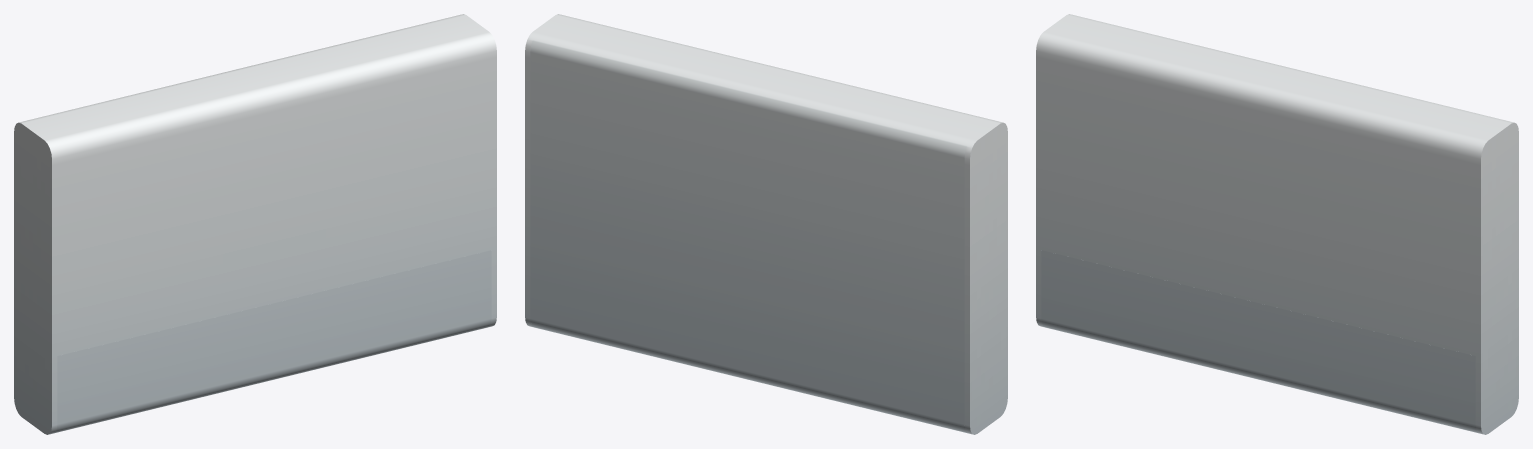
Rendered from CassetteCoverAnimation.fbx.
The picture shows the model from 3 angles, left to right: view 1: azimuth 30°, elevation 25°; view 2: azimuth 150°, elevation 25°; view 3: azimuth 330°, elevation 25°; orthographic projection.
Parts seen in each view (by area): view 1: CassetteCover_Lid, CassetteCover_Base; view 2: CassetteCover_Base, CassetteCover_Lid; view 3: CassetteCover_Lid, CassetteCover_Base.
Boxes of the visible parts, box(x1,y1,x2,y2) form: CassetteCover_Lid: box(14, 14, 496, 434); CassetteCover_Base: box(53, 250, 491, 433); CassetteCover_Base: box(530, 40, 968, 433); CassetteCover_Lid: box(525, 14, 1007, 434); CassetteCover_Lid: box(1036, 14, 1518, 434); CassetteCover_Base: box(1041, 250, 1479, 433).
Bounding box in the file's own units: 10.8 × 6.81 × 1.6.
